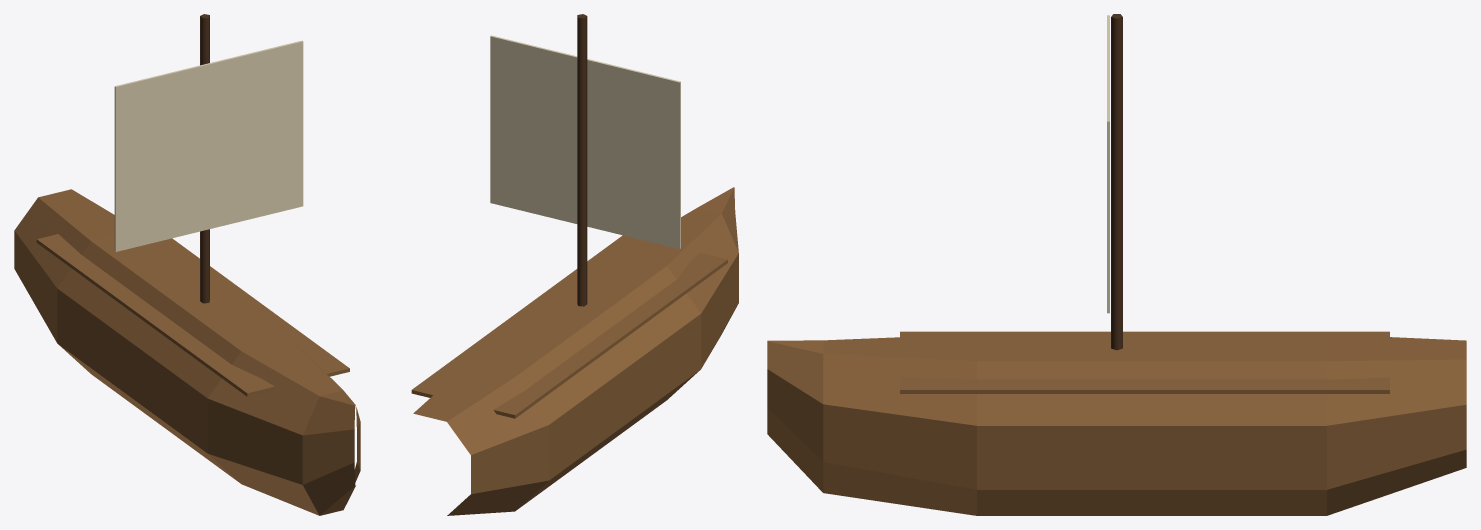
Rendered from veh_naval_merchant_a02.glb.
The picture shows the model from 3 angles, left to right: view 1: azimuth 30°, elevation 25°; view 2: azimuth 150°, elevation 25°; view 3: azimuth 270°, elevation 25°; orthographic projection. The views are drawn at different scales.
Visible parts, largest first — view 1: body, sail_0; view 2: body, sail_0; view 3: body, sail_0.
Part boxes in pixels (x1,y1,x2,y2): body: (14, 14, 360, 515); sail_0: (114, 40, 303, 251); body: (411, 14, 738, 515); sail_0: (490, 35, 680, 249); body: (767, 14, 1466, 515); sail_0: (1107, 15, 1109, 313).
Size of what is drawn, in the model's own units: 4.46 by 9.51 by 12.4.
